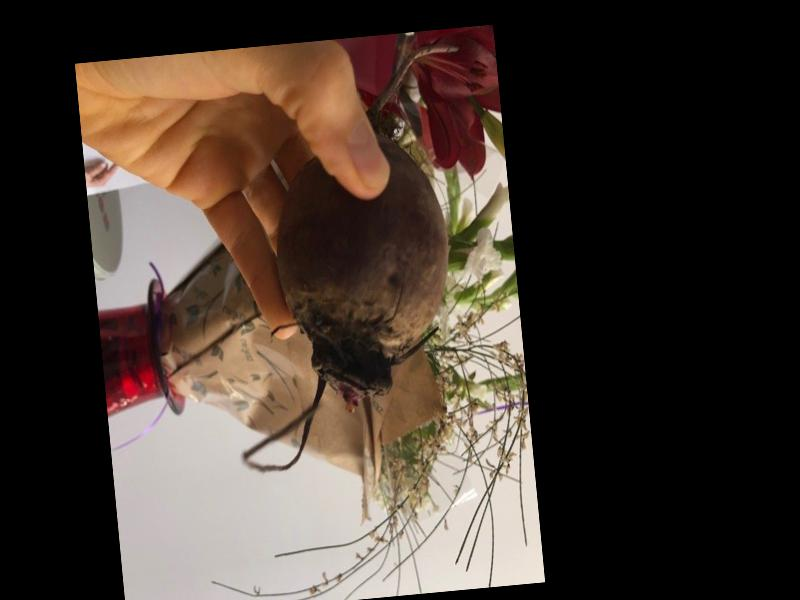Beet: (206, 45, 494, 475)
